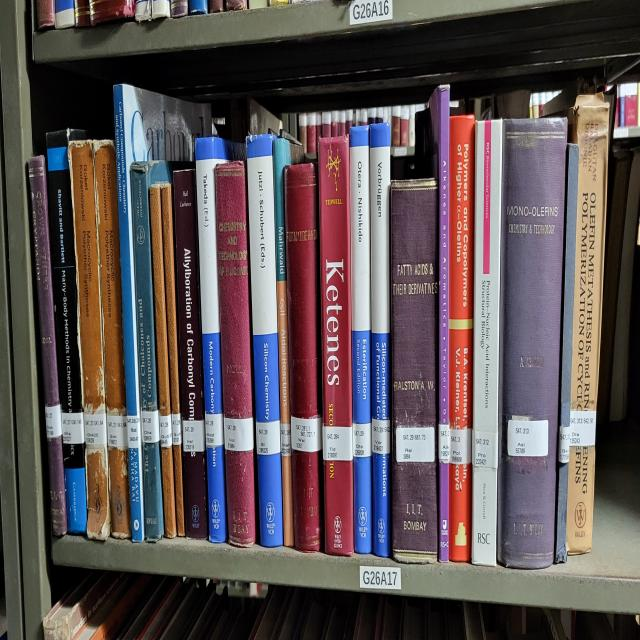Book: (114, 84, 211, 541), (498, 119, 568, 568), (566, 95, 609, 555), (195, 138, 244, 541), (390, 179, 439, 563), (46, 130, 88, 533), (69, 141, 110, 538), (130, 162, 172, 541), (215, 162, 256, 547), (92, 141, 131, 538), (29, 154, 68, 536), (284, 162, 322, 552), (319, 138, 354, 555), (471, 119, 502, 565), (174, 170, 208, 538), (449, 116, 475, 563), (428, 84, 450, 563), (555, 143, 579, 563), (149, 184, 176, 538), (350, 127, 372, 552), (272, 138, 294, 547), (161, 184, 185, 536), (370, 143, 390, 555), (252, 333, 282, 547)
Label: (508, 419, 549, 457), (396, 427, 435, 463), (291, 417, 322, 452), (224, 417, 254, 452), (322, 425, 352, 460), (472, 430, 498, 468), (570, 409, 596, 446), (256, 419, 280, 455), (182, 419, 205, 455), (450, 427, 471, 465), (61, 411, 85, 444), (106, 414, 128, 449), (84, 414, 108, 446), (141, 409, 160, 444), (352, 422, 371, 457), (372, 419, 390, 455), (205, 414, 224, 446), (45, 403, 61, 438), (126, 414, 141, 449), (558, 425, 570, 465), (159, 414, 172, 449), (439, 425, 450, 463), (280, 422, 291, 457), (171, 414, 181, 446)
